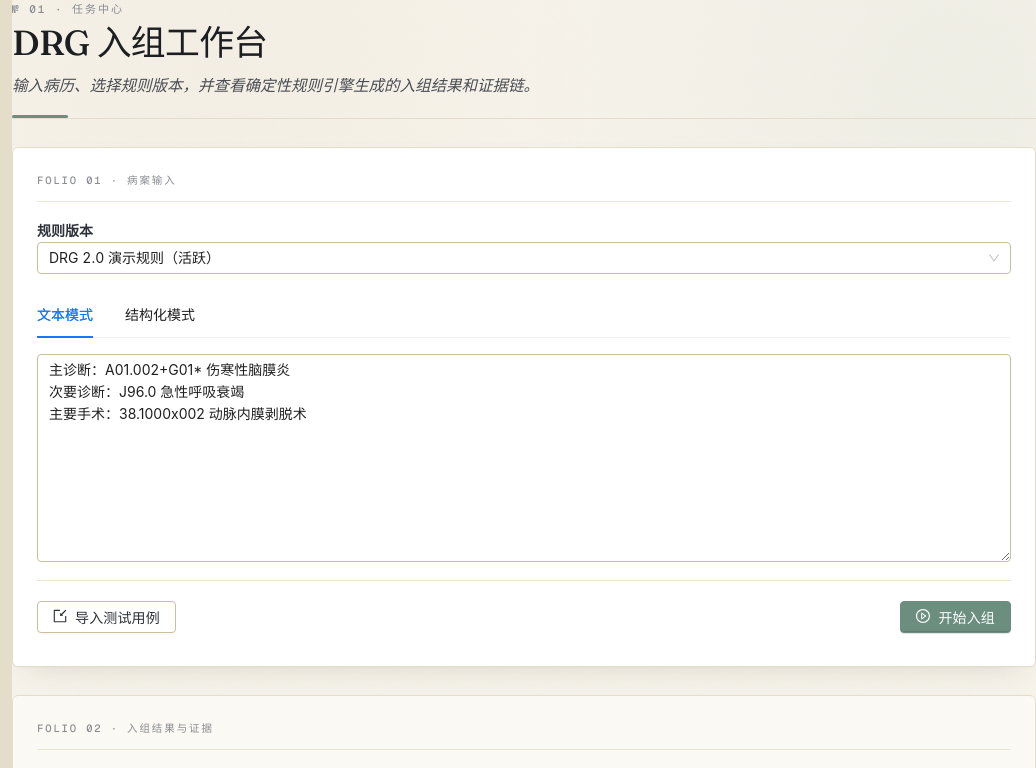
Scenario: DRGGrouping › executes grouping and shows successful result
The image size is (1036, 768).
Expected: the text "DRG 2.0 演示规则（活跃）" is shown, [49,249,220,266]
Click the button "开始入组": [956, 617] box [900,601,1011,633]
(page scrolled)
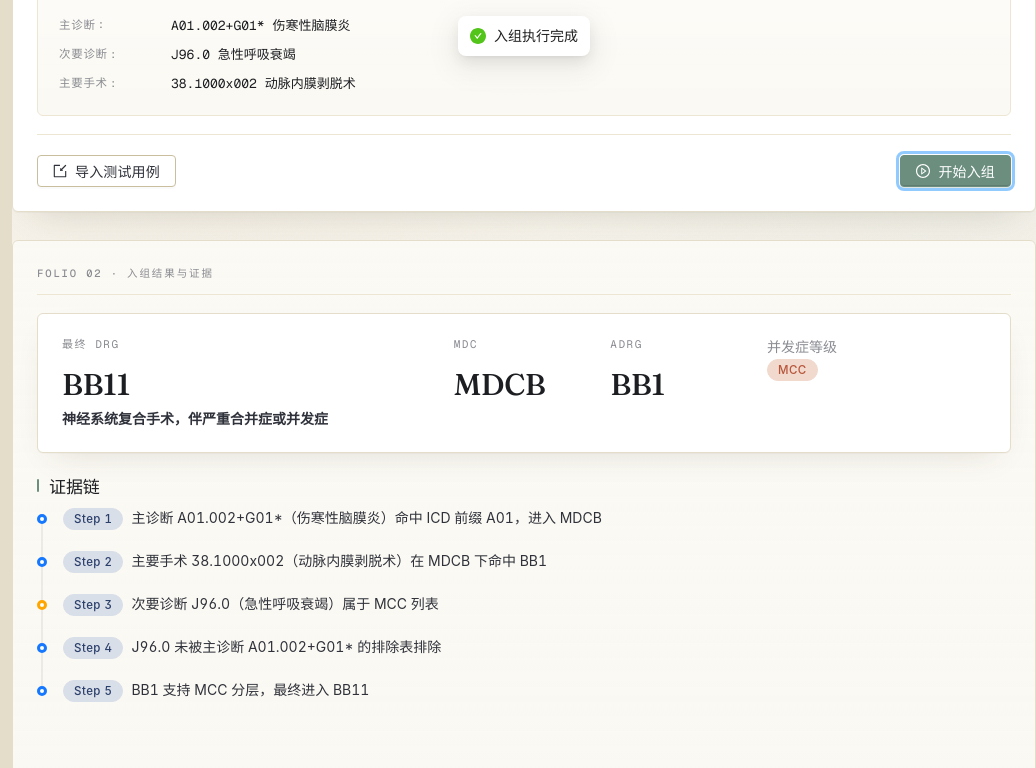
Expected: the text "最终 DRG" is shown, [62,337,120,351]
Expected: the text "BB11" is shown, [62,361,130,408]
